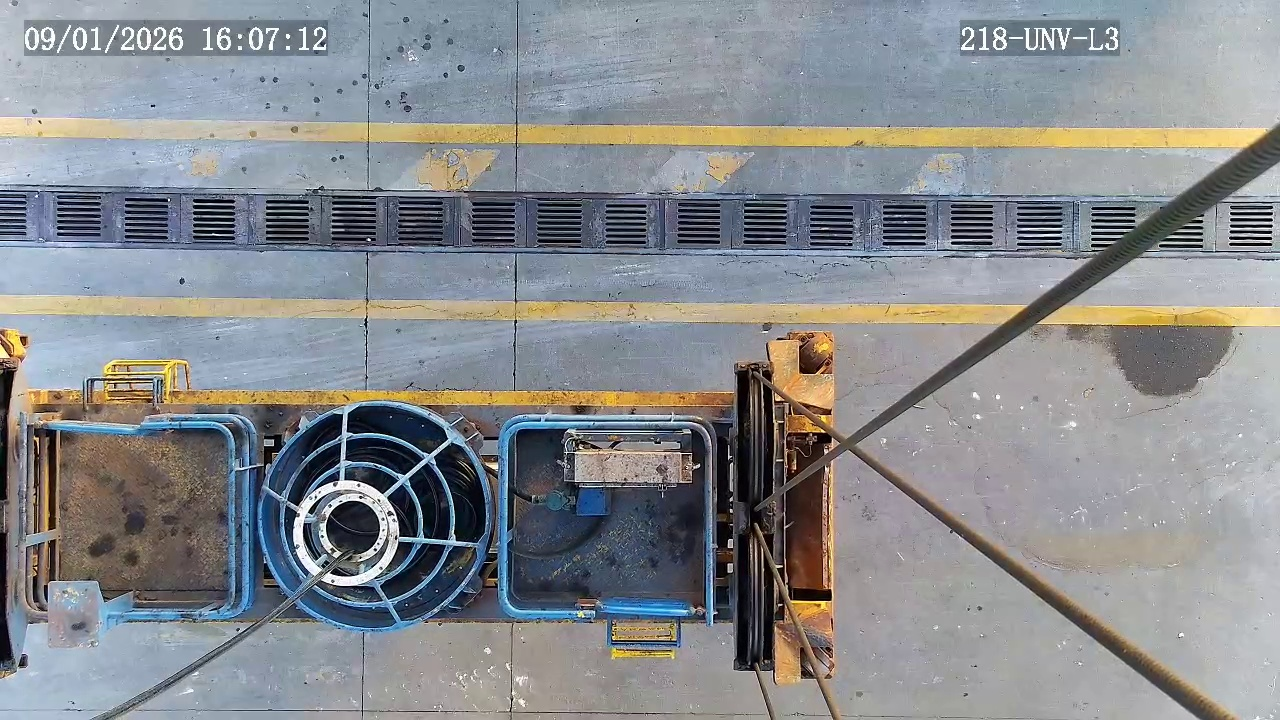right: (258, 402, 490, 631)
